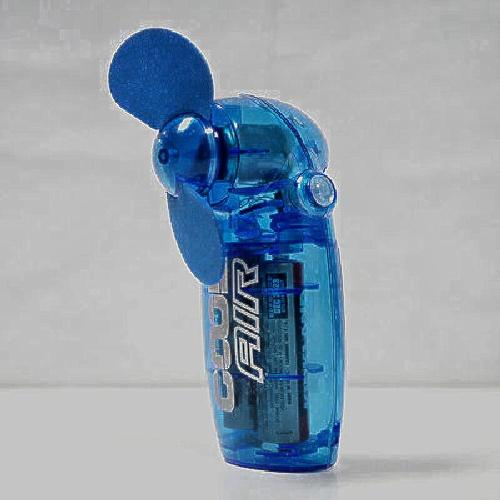fan: (111, 34, 370, 476)
